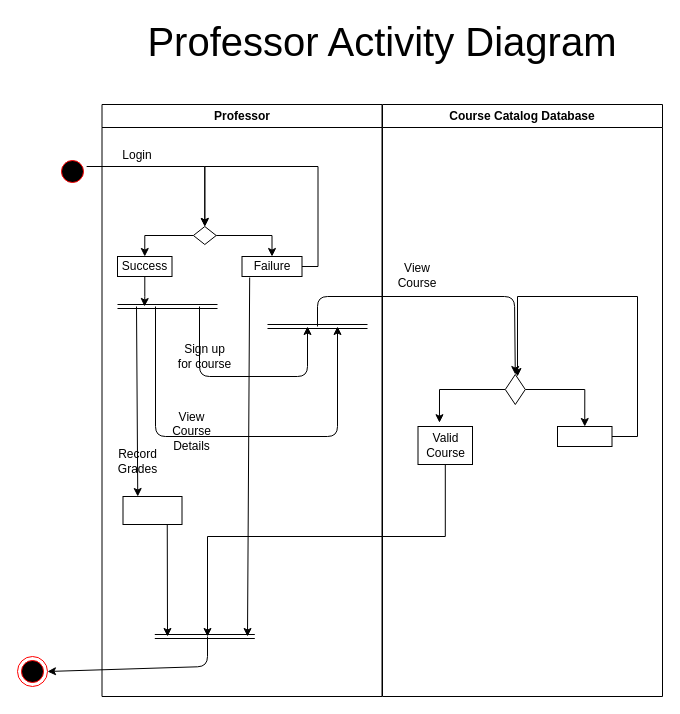
The diagram is 680 pixels wide and 714 high, and some of its shapes have lost their labels. The centre of each missing label's shape, as x and y in pixels:
"Grades Recorded" belongs at pixel 152 510.
"Invalid Course" belongs at pixel 584 436.
